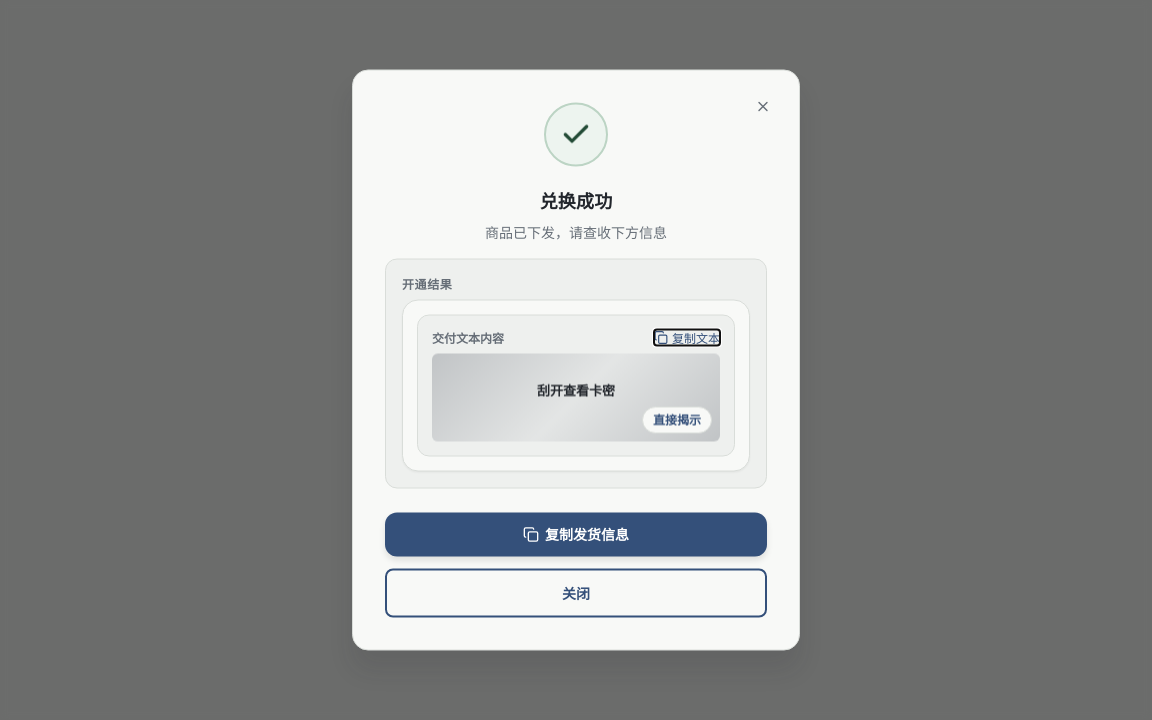
Test: SuccessModal delivery reveal › coats a plain-text code and reveals it when the buyer copies
Click the button with test id "success-copy-content".
click(576, 534)  # box 385,512 -> 767,556
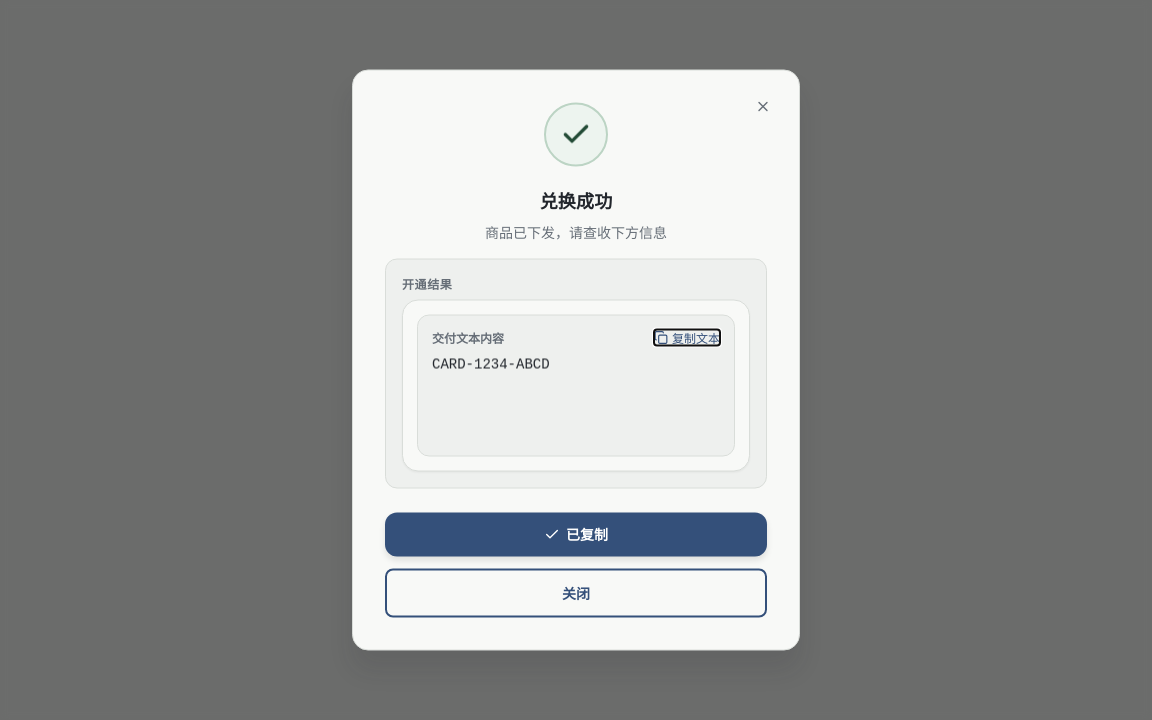
Expected: the button with test id "scratch-reveal-button" is gone
